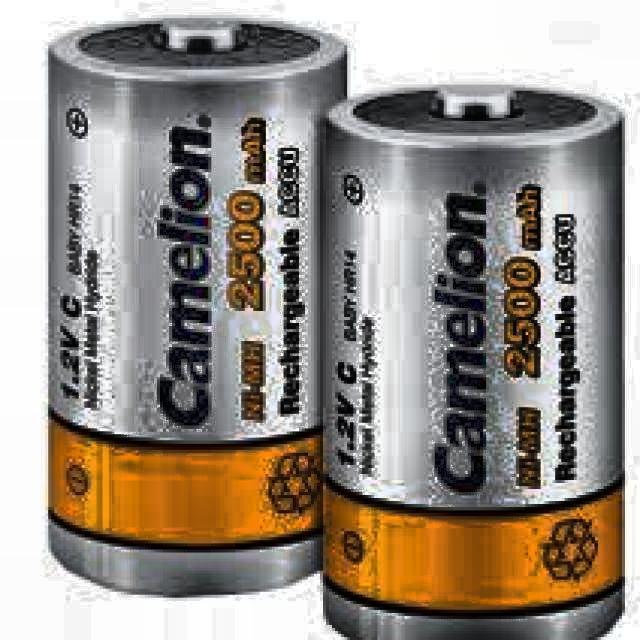battery: (49, 14, 348, 599), (323, 83, 625, 640)
